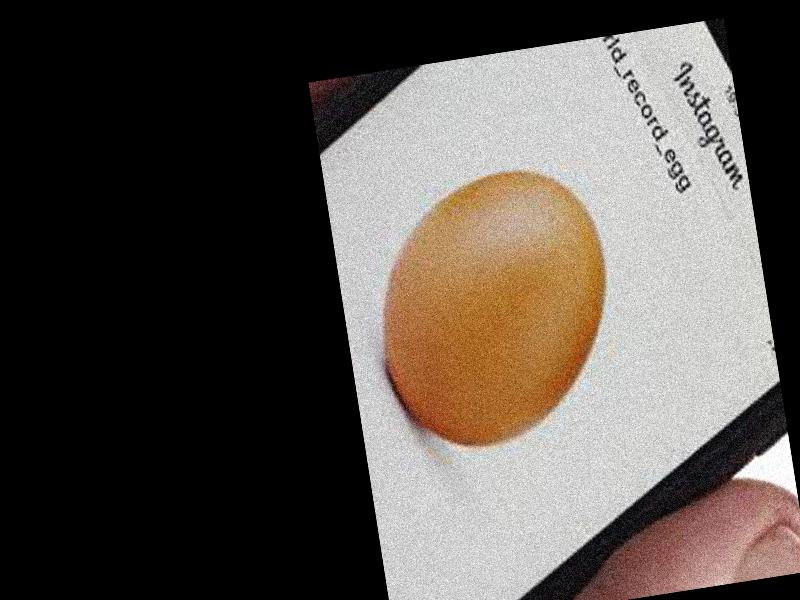Eggs: (361, 160, 629, 458)
